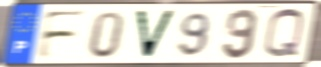0: (87, 10, 126, 60)
9: (222, 7, 260, 61), (175, 11, 216, 58)
F: (34, 9, 89, 61)
Q: (261, 6, 307, 61)
V: (133, 9, 179, 61)
